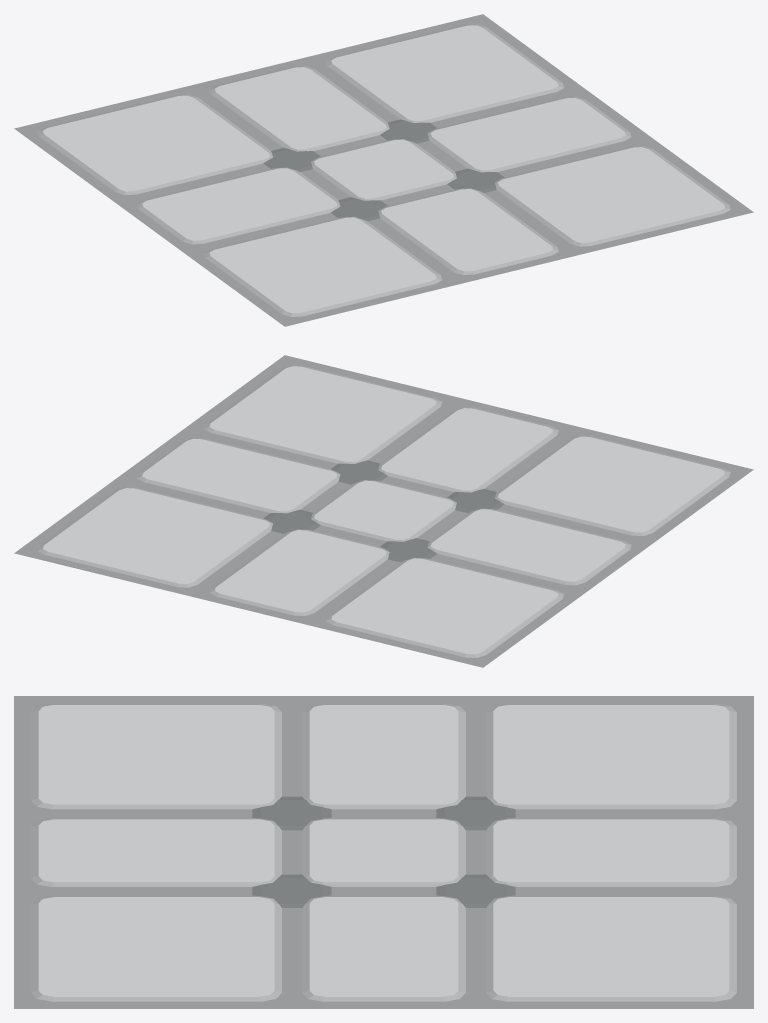
Rendered from Floor_type_A_008.fbx.
3 renders of one model, top to bottom at view 1: azimuth 30°, elevation 25°; view 2: azimuth 150°, elevation 25°; view 3: azimuth 270°, elevation 25°, orthographic. The views are drawn at different scales.
Parts seen in each view (by area): view 1: Floor_type_A_008; view 2: Floor_type_A_008; view 3: Floor_type_A_008.
Boxes of the visible parts, x1,y1,x2,y2 form: Floor_type_A_008: (14, 14, 753, 326); Floor_type_A_008: (14, 355, 753, 667); Floor_type_A_008: (14, 696, 753, 1008).
Size of the model in its own units: 400 by 400 by 1.34.
